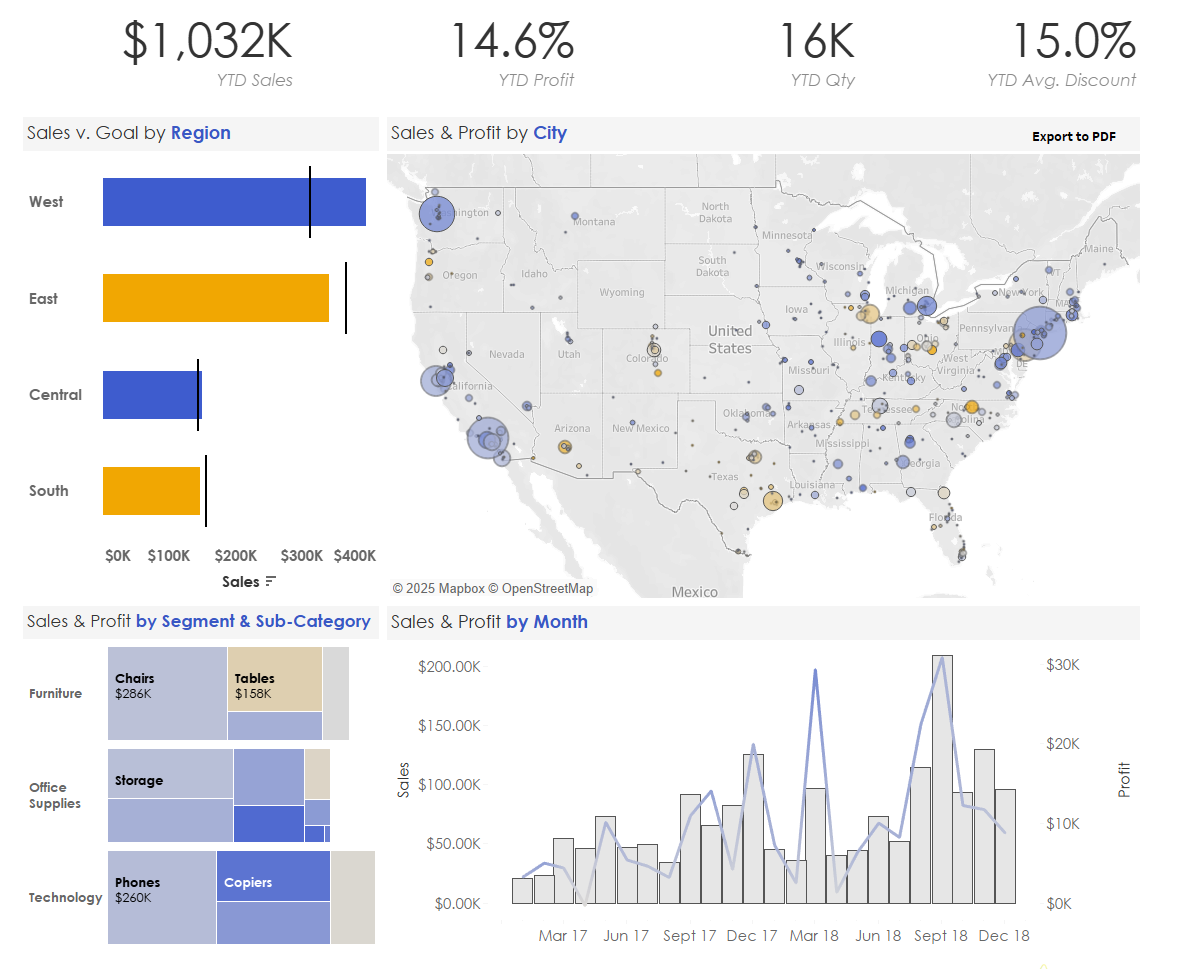

The page's visual inventory and layout, read from the dashboard file:
{"tool":"tableau","page":{"name":"Executive Dashboard","canvas":[1200,1200],"ordinal":0},"visuals":[{"type":"blank","box":[0,0,1200,90]},{"type":"text","box":[35,20,751,58]},{"type":"image","param":"Image/Maven Supplies Logo.png","box":[910,25,256,57]},{"type":"filter","title":"Treemap- Sales by Sub-Category","param":"[federated.0z50y3l1walndh164q5h50iey29a].[none:Order Date (MDY):qk]","box":[41,95,187,63]},{"type":"filter","title":"Treemap- Sales by Sub-Category","param":"[federated.0z50y3l1walndh164q5h50iey29a].[none:Segment:nk]","box":[228,95,187,63]},{"type":"filter","title":"Treemap- Sales by Sub-Category","param":"[federated.0z50y3l1walndh164q5h50iey29a].[none:Category:nk]","box":[415,95,186,63]},{"type":"filter","title":"Treemap- Sales by Sub-Category","param":"[federated.0z50y3l1walndh164q5h50iey29a].[none:State:nk]","box":[601,95,186,63]},{"type":"filter","title":"Map- Sales & Profit","param":"[federated.0z50y3l1walndh164q5h50iey29a].[none:Region:nk]","box":[787,95,186,63]},{"type":"filter","title":"Treemap- Sales by Sub-Category","param":"[federated.0z50y3l1walndh164q5h50iey29a].[none:City:nk]","box":[973,95,186,63]},{"type":"worksheet","title":"BAN- YTD Sales","mark":"Automatic","box":[38,175,282,125]},{"type":"worksheet","title":"BAN- YTD Profit","mark":"Automatic","box":[320,175,281,125]},{"type":"worksheet","title":"BAN- YTD Quantity","mark":"Automatic","box":[601,175,281,125]},{"type":"worksheet","title":"BAN- YTD Avg Discount","mark":"Automatic","box":[882,175,281,125]},{"type":"worksheet","title":"Bar- Sales v. Goal","mark":"Automatic","rows":["Region"],"cols":["Sales","Goal"],"box":[38,300,364,489]},{"type":"worksheet","title":"Map- Sales & Profit","mark":"Automatic","box":[402,300,761,489]},{"type":"dashboard-object","box":[1028,313,130,21]},{"type":"worksheet","title":"Treemap- Sales by Sub-Category","mark":"Automatic","rows":["Category"],"box":[38,789,364,351]},{"type":"worksheet","title":"Bar Line- Monthly Sales Trend","mark":"Bar","rows":["Sales","Profit"],"cols":["Order Date (MDY)"],"box":[402,789,761,351]}]}

Visuals, with their boxes on the page's 1200x1200 design canvas (x1, y1, x2, y2). These are canvas units, not pixel positions in the 1177x969 screenshot, which may show the page scaled, cropped or inside an application window:
blank: (left=0, top=0, right=1200, bottom=90)
text: (left=35, top=20, right=786, bottom=78)
image: (left=910, top=25, right=1166, bottom=82)
"Treemap- Sales by Sub-Category" filter: (left=41, top=95, right=228, bottom=158)
"Treemap- Sales by Sub-Category" filter: (left=228, top=95, right=415, bottom=158)
"Treemap- Sales by Sub-Category" filter: (left=415, top=95, right=601, bottom=158)
"Treemap- Sales by Sub-Category" filter: (left=601, top=95, right=787, bottom=158)
"Map- Sales & Profit" filter: (left=787, top=95, right=973, bottom=158)
"Treemap- Sales by Sub-Category" filter: (left=973, top=95, right=1159, bottom=158)
"BAN- YTD Sales" worksheet: (left=38, top=175, right=320, bottom=300)
"BAN- YTD Profit" worksheet: (left=320, top=175, right=601, bottom=300)
"BAN- YTD Quantity" worksheet: (left=601, top=175, right=882, bottom=300)
"BAN- YTD Avg Discount" worksheet: (left=882, top=175, right=1163, bottom=300)
"Bar- Sales v. Goal" worksheet: (left=38, top=300, right=402, bottom=789)
"Map- Sales & Profit" worksheet: (left=402, top=300, right=1163, bottom=789)
dashboard-object: (left=1028, top=313, right=1158, bottom=334)
"Treemap- Sales by Sub-Category" worksheet: (left=38, top=789, right=402, bottom=1140)
"Bar Line- Monthly Sales Trend" worksheet (Bar marks): (left=402, top=789, right=1163, bottom=1140)
